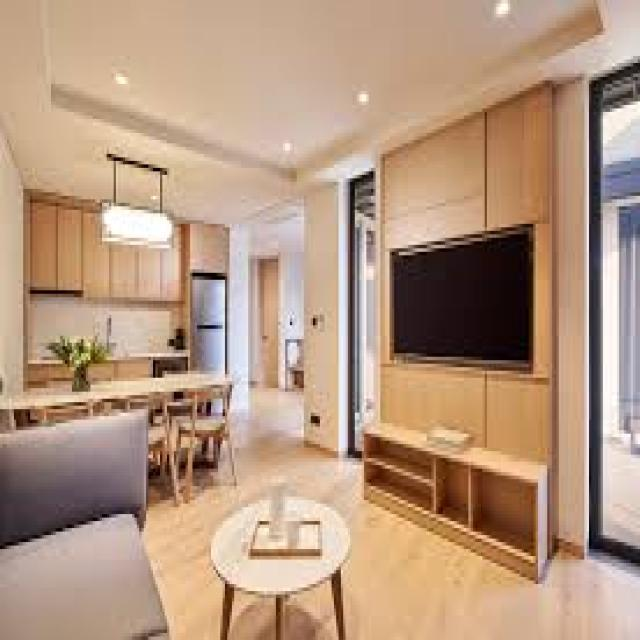Sofa: (1, 409, 172, 640)
Table: (210, 492, 355, 636)
tv: (391, 227, 534, 371)
